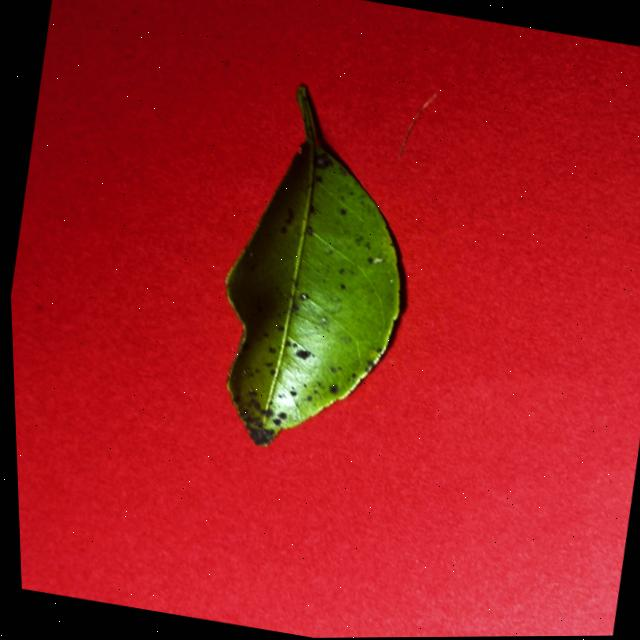sooty_mold: (226, 87, 399, 445)
